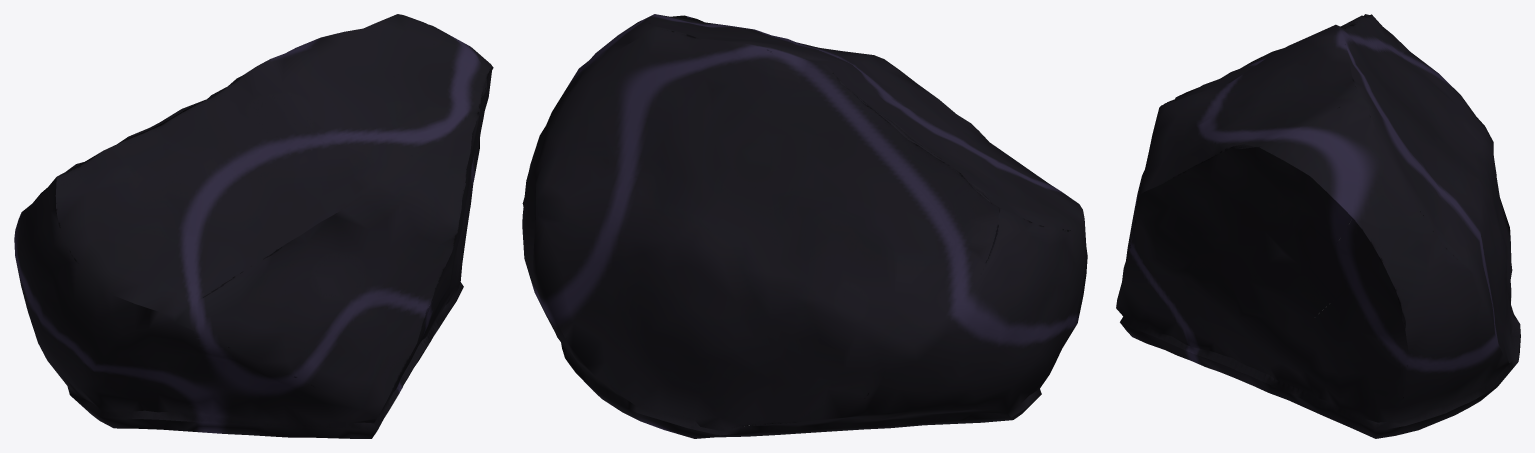
Rendered from obsidiana.fbx.
The picture shows the model from 3 angles, left to right: view 1: azimuth 30°, elevation 25°; view 2: azimuth 150°, elevation 25°; view 3: azimuth 270°, elevation 25°; orthographic projection. The views are drawn at different scales.
Parts seen in each view (by area): view 1: obsidiana; view 2: obsidiana; view 3: obsidiana.
Part boxes in pixels (x1,y1,x2,y2): obsidiana: (14, 14, 493, 438); obsidiana: (522, 14, 1087, 438); obsidiana: (1116, 14, 1520, 438).
Size of the model in its own units: 2.24 by 1.41 by 1.65.
1 material, 1 textured.
